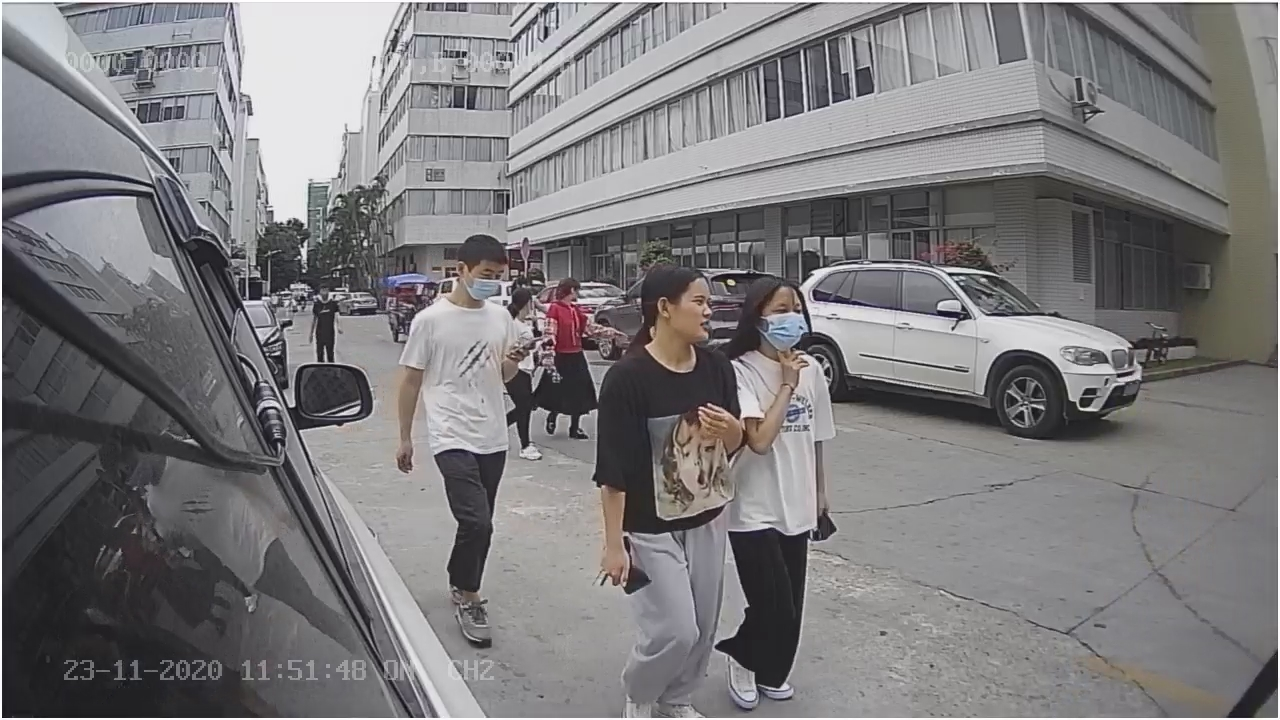person: (396, 232, 534, 643), (718, 258, 832, 711)
